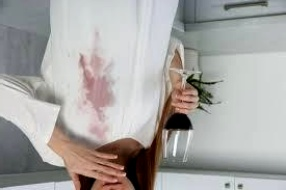wine: (78, 34, 115, 112), (81, 118, 112, 137)
